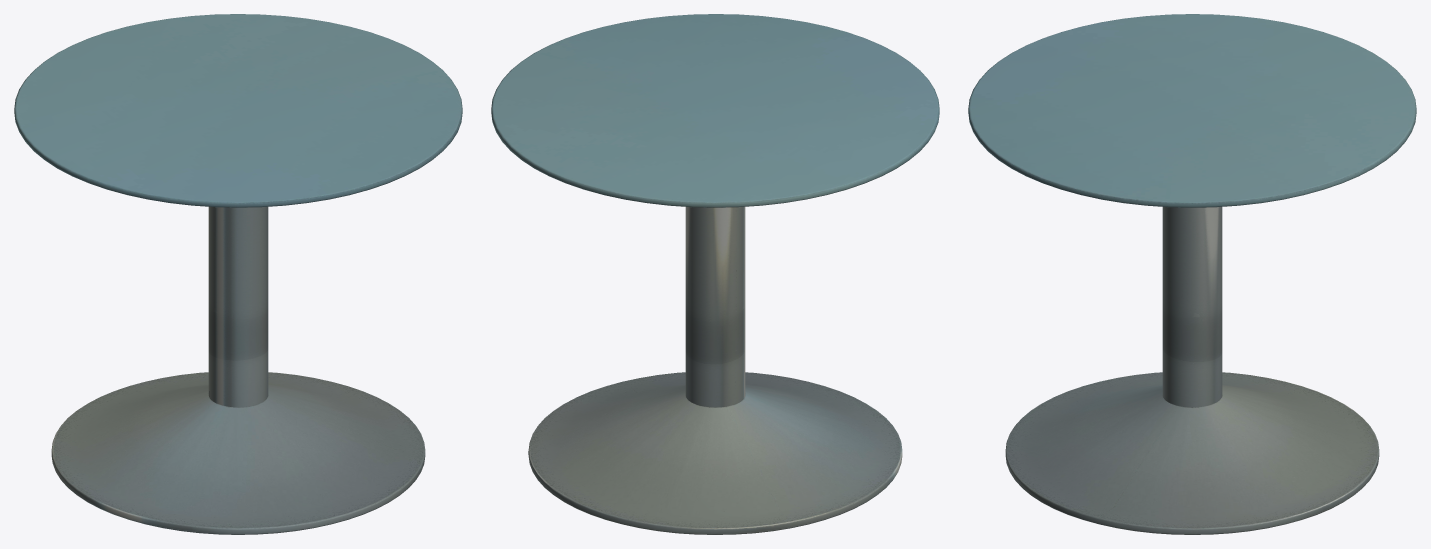
Rendered from fermo_50_edelstahlfarben_60_glass_laquered_metal.glb.
3 renders of one model, left to right at view 1: azimuth 30°, elevation 25°; view 2: azimuth 150°, elevation 25°; view 3: azimuth 270°, elevation 25°, orthographic.
Parts seen in each view (by area): view 1: Object01, fermo_50_edelstahlfarben_o60-glass; view 2: Object01, fermo_50_edelstahlfarben_o60-glass; view 3: Object01, fermo_50_edelstahlfarben_o60-glass.
Boxes of the visible parts, x1,y1,x2,y2 form: Object01: (14,14,462,207); fermo_50_edelstahlfarben_o60-glass: (51,206,425,534); Object01: (491,14,939,207); fermo_50_edelstahlfarben_o60-glass: (528,206,902,534); Object01: (968,14,1416,207); fermo_50_edelstahlfarben_o60-glass: (1005,207,1379,534).
Bounding box in the file's own units: 0.6 × 0.5142 × 0.6.
2 materials, 2 textured.
